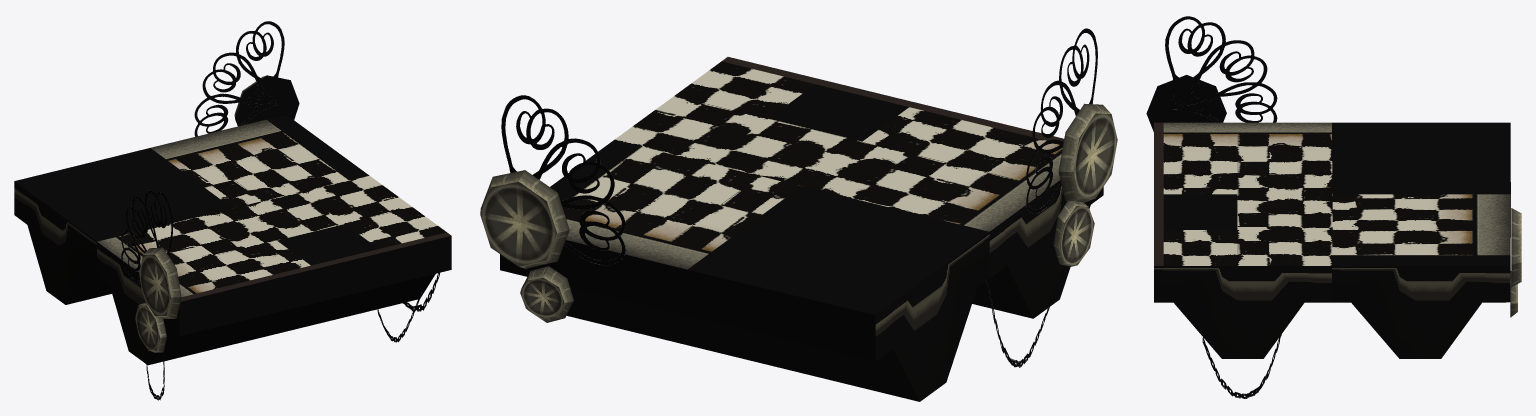
File: HallwayCorner.fbx
3 renders of one model, left to right at view 1: azimuth 30°, elevation 25°; view 2: azimuth 150°, elevation 25°; view 3: azimuth 270°, elevation 25°, orthographic. The views are drawn at different scales.
Visible parts, largest first — view 1: HallWayCorner; view 2: HallWayCorner; view 3: HallWayCorner.
Boxes of the visible parts, x1=… form: HallWayCorner: x1=14, y1=21, x2=451, y2=400; HallWayCorner: x1=480, y1=28, x2=1117, y2=401; HallWayCorner: x1=1146, y1=16, x2=1521, y2=398.
Bounding box in the file's own units: 203 × 155 × 208.
